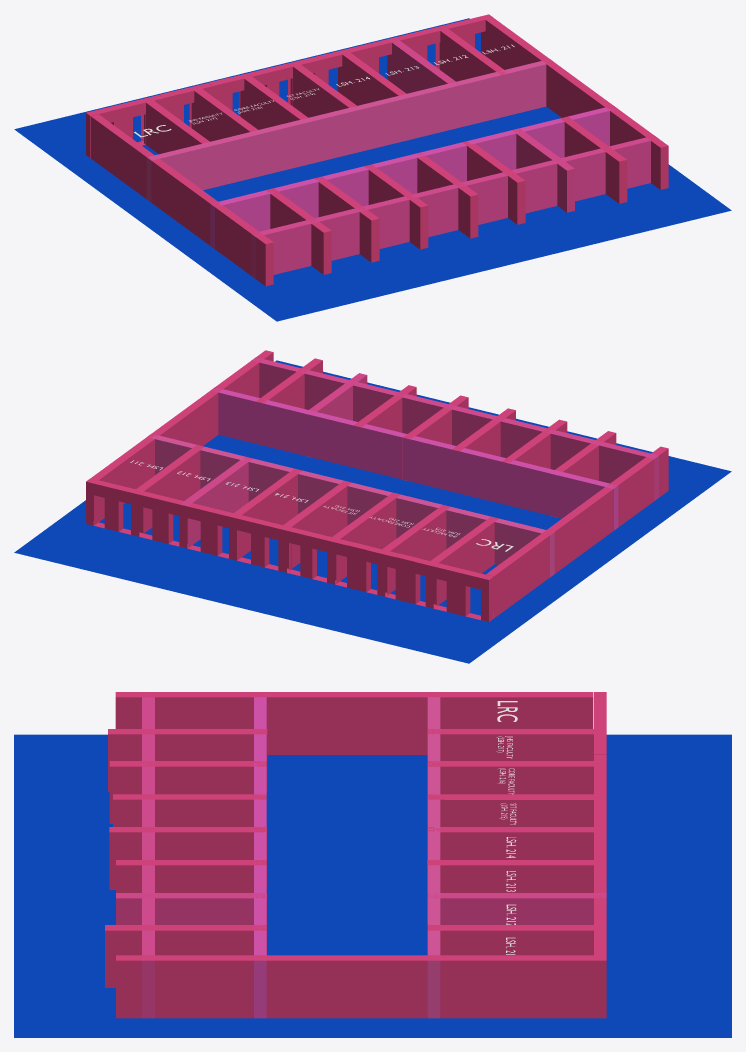
File: ground.glb
The picture shows the model from 3 angles, top to bottom: view 1: azimuth 30°, elevation 25°; view 2: azimuth 150°, elevation 25°; view 3: azimuth 270°, elevation 25°; orthographic projection. The views are drawn at different scales.
Parts seen in each view (by area): view 1: hifi_prev_wall.003, Plane; view 2: hifi_prev_wall.003, Plane; view 3: hifi_prev_wall.003, Plane.
Part boxes in pixels (bbox=[...]): hifi_prev_wall.003: bbox=[86, 14, 668, 286]; Plane: bbox=[14, 18, 731, 321]; hifi_prev_wall.003: bbox=[86, 350, 668, 621]; Plane: bbox=[14, 360, 731, 663]; hifi_prev_wall.003: bbox=[105, 692, 606, 1018]; Plane: bbox=[14, 734, 731, 1037].
Bounding box in the file's own units: 4.91 × 0.4591 × 4.91.
